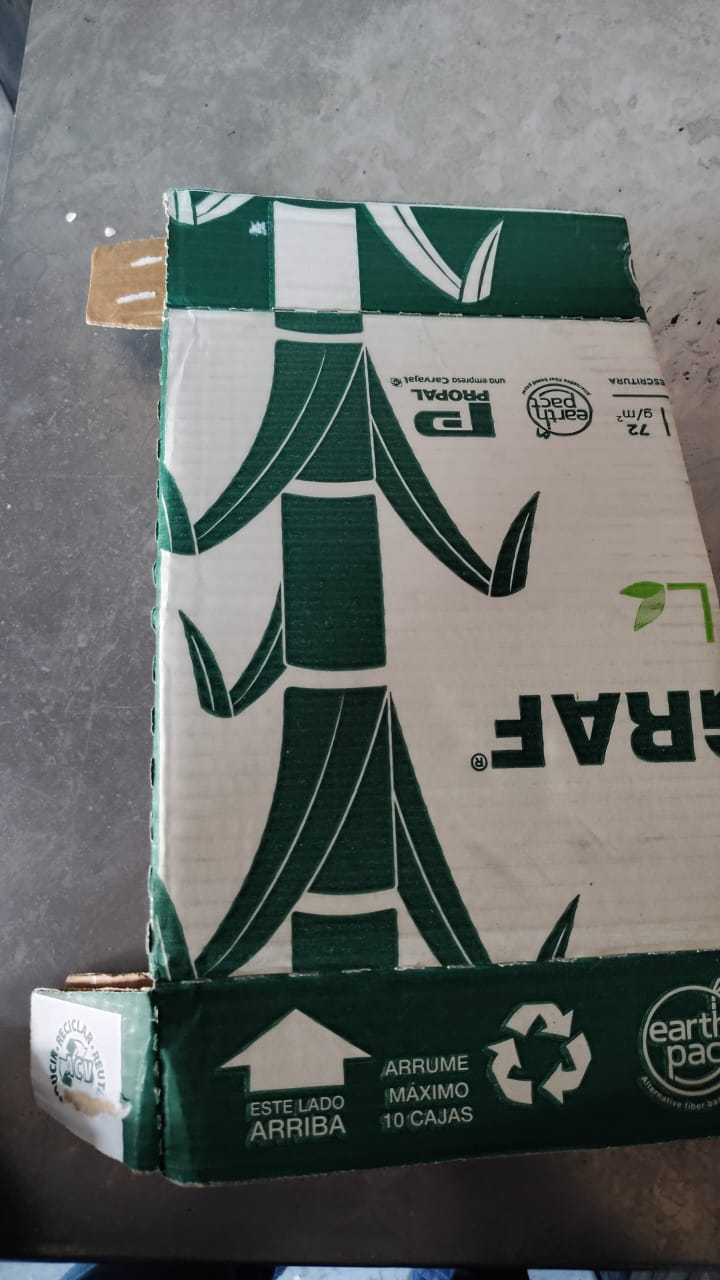Carton: (150, 193, 719, 1189)
